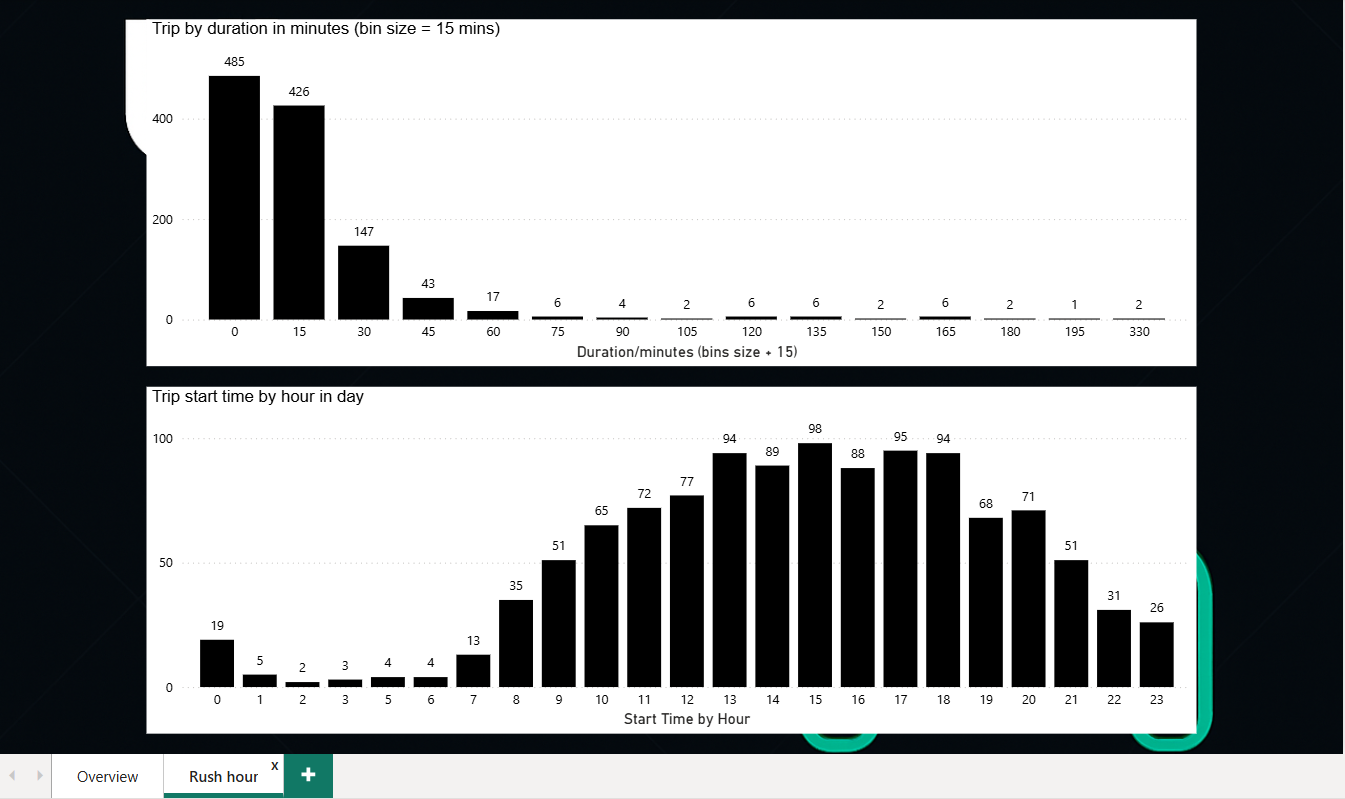

The dashboard page shown, as its layout file describes it:
{"tool":"powerbi","page":{"name":"Rush hour ","canvas":[1280,720],"ordinal":1},"visuals":[{"type":"clusteredColumnChart","title":" Trip  by duration in minutes (bin size = 15 mins)","fields":{"Category":["UberDataset.Duration/minutes (bins)"],"Y":["CountNonNull(UberDataset.Trip ID)"]},"box":[140,20,1000,330],"z":1},{"type":"clusteredColumnChart","title":"Trip start time by hour in day","fields":{"Category":["UberDataset.Start Time by Hour"],"Y":["CountNonNull(UberDataset.Trip ID)"]},"box":[140,370,1000,330],"z":2}]}

Visuals, with their boxes in screenshot pixels (x1, y1, x2, y2):
" Trip  by duration in minutes (bin size = 15 mins)" clusteredColumnChart: {"x1": 156, "y1": 21, "x2": 1192, "y2": 363}
"Trip start time by hour in day" clusteredColumnChart: {"x1": 156, "y1": 383, "x2": 1192, "y2": 725}
